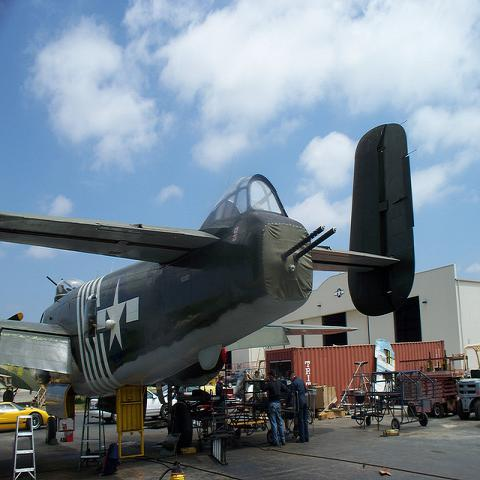car: (0, 404, 49, 432), (146, 389, 168, 419), (236, 384, 253, 404), (225, 374, 238, 388)
truck: (265, 340, 446, 402), (455, 369, 479, 420)
